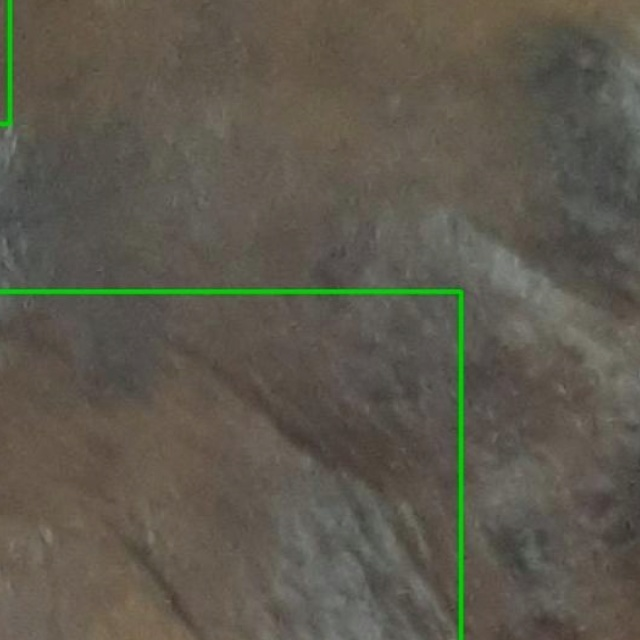Contact Dermatitis: (0, 291, 461, 639)
